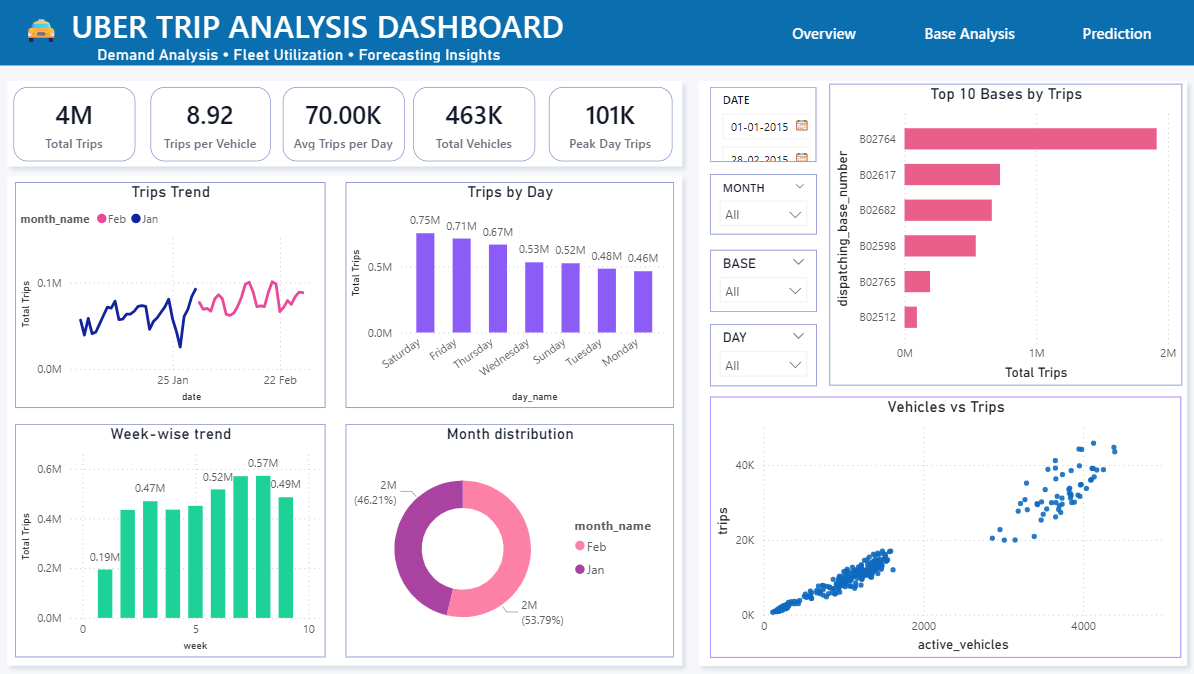

The dashboard page shown, as its layout file describes it:
{"tool":"powerbi","page":{"name":"Page 1","canvas":[1280,720],"ordinal":0},"visuals":[{"type":"shape","box":[739.6,77.4,539.6,643.4],"z":0},{"type":"lineChart","title":"Trips Trend","fields":{"Category":["Uber.date"],"Y":["Uber.Total Trips"],"Series":["Uber.month_name"]},"box":[17,194.3,332.1,241.5],"z":0,"group":"g1"},{"type":"clusteredColumnChart","title":"Trips by Day","fields":{"Category":["Uber.day_name"],"Y":["Uber.Total Trips"]},"box":[369.8,194.3,350.9,241.5],"z":1000,"group":"g1"},{"type":"lineChart","title":"Trips Forecast (Next 7 Days)","fields":{"Category":["Uber.date"],"Y":["Uber.Total Trips"]},"box":[15.1,201.9,705.7,501.9],"z":1000},{"type":"shape","box":[0,179.2,739.6,541.5],"z":2000},{"type":"clusteredColumnChart","title":"Week-wise trend","fields":{"Category":["Uber.week"],"Y":["Uber.Total Trips"]},"box":[17,452.8,332.1,249.1],"z":2000,"group":"g1"},{"type":"shape","box":[0,77.4,739.6,109.4],"z":3000},{"type":"donutChart","title":"Month distribution","fields":{"Category":["Uber.month_name"],"Y":["Uber.Total Trips"]},"box":[369.8,452.8,350.9,249.1],"z":3000,"group":"g1"},{"type":"clusteredBarChart","title":"Top 10 Bases by Trips","fields":{"Category":["Uber.dispatching_base_number"],"Y":["Uber.Total Trips"]},"box":[886.8,89.7,377.4,322.6],"z":4000,"group":"g1"},{"type":"card","title":"Total Trips","fields":{"Values":["Uber.Total Trips"]},"box":[15.1,92.5,130.2,79.2],"z":4000},{"type":"card","title":"Trips per Vehicle","fields":{"Values":["Uber.Trips per Vehicle"]},"box":[162.3,92.5,128.3,79.2],"z":5000},{"type":"scatterChart","title":"Vehicles vs Trips","fields":{"X":["Uber.active_vehicles"],"Y":["Uber.trips"]},"box":[760.4,424.2,503.8,279.2],"z":5000,"group":"g1"},{"type":"card","fields":{"Values":["Uber.Peak Day Trips"]},"box":[588.7,92.5,132.1,79.2],"z":6000},{"type":"card","title":"Avg Trips per Day","fields":{"Values":["Uber.Avg Trips per Day"]},"box":[303.8,92.5,130.2,79.2],"z":7000},{"type":"card","fields":{"Values":["Uber.Total Vehicles"]},"box":[443.4,92.5,130.2,79.2],"z":8000},{"type":"shape","box":[0,0,1280,70],"z":9000},{"type":"textbox","title":"🚖 UBER TRIP ANALYSIS DASHBOARD","box":[17.4,5.2,606.3,40],"z":10000},{"type":"textbox","title":"Overview ","box":[842.8,24.4,94,24.4],"z":11000},{"type":"textbox","title":"Base Analysis","box":[984.9,24.5,109.4,24.5],"z":12000},{"type":"textbox","title":"Prediction","box":[1152.7,24.4,111.4,24.4],"z":13000},{"type":"slicer","fields":{"Values":["Uber.date"]},"box":[760.4,92.5,113.2,80],"z":14000},{"type":"slicer","fields":{"Values":["Uber.month"]},"box":[760.1,185.9,114.1,64.4],"z":15000},{"type":"slicer","fields":{"Values":["Uber.day"]},"box":[760.1,346,114.1,66.3],"z":16000},{"type":"slicer","fields":{"Values":["Uber.dispatching_base_number"]},"box":[760.1,266.9,114.1,66.3],"z":17000},{"type":"group","id":"g1","title":"OVERVIEW_GROUP","box":[17,89.7,1247.2,613.8],"z":18000},{"type":"actionButton","box":[837.7,0,98.1,69.8],"z":21000},{"type":"actionButton","box":[977.4,0,122.6,69.8],"z":22000},{"type":"actionButton","box":[1139.6,0,100,69.8],"z":23000},{"type":"textbox","title":"Demand Analysis    •    Fleet Utilization    •    Forecasting Insights","box":[100.8,48.6,472.5,20.8],"z":24000}]}

Visuals, with their boxes in screenshot pixels (x1, y1, x2, y2), scaled from the page's 1280x720 canvas onto the 1194x674 screenshot:
shape: 690/72/1193/673
"Trips Trend" lineChart: 16/182/326/408
"Trips by Day" clusteredColumnChart: 345/182/672/408
"Trips Forecast (Next 7 Days)" lineChart: 14/189/672/659
shape: 0/168/690/673
"Week-wise trend" clusteredColumnChart: 16/424/326/657
shape: 0/72/690/175
"Month distribution" donutChart: 345/424/672/657
"Top 10 Bases by Trips" clusteredBarChart: 827/84/1179/386
"Total Trips" card: 14/87/136/161
"Trips per Vehicle" card: 151/87/271/161
"Vehicles vs Trips" scatterChart: 709/397/1179/658
card - Uber.Peak Day Trips: 549/87/672/161
"Avg Trips per Day" card: 283/87/405/161
card - Uber.Total Vehicles: 414/87/535/161
shape: 0/0/1193/66
"🚖 UBER TRIP ANALYSIS DASHBOARD" textbox: 16/5/582/42
"Overview " textbox: 786/23/874/46
"Base Analysis" textbox: 919/23/1021/46
"Prediction" textbox: 1075/23/1179/46
slicer - Uber.date: 709/87/815/161
slicer - Uber.month: 709/174/815/234
slicer - Uber.day: 709/324/815/386
slicer - Uber.dispatching_base_number: 709/250/815/312
"OVERVIEW_GROUP" group: 16/84/1179/659
actionButton: 781/0/873/65
actionButton: 912/0/1026/65
actionButton: 1063/0/1156/65
"Demand Analysis    •    Fleet Utilization    •    Forecasting Insights" textbox: 94/45/535/65
